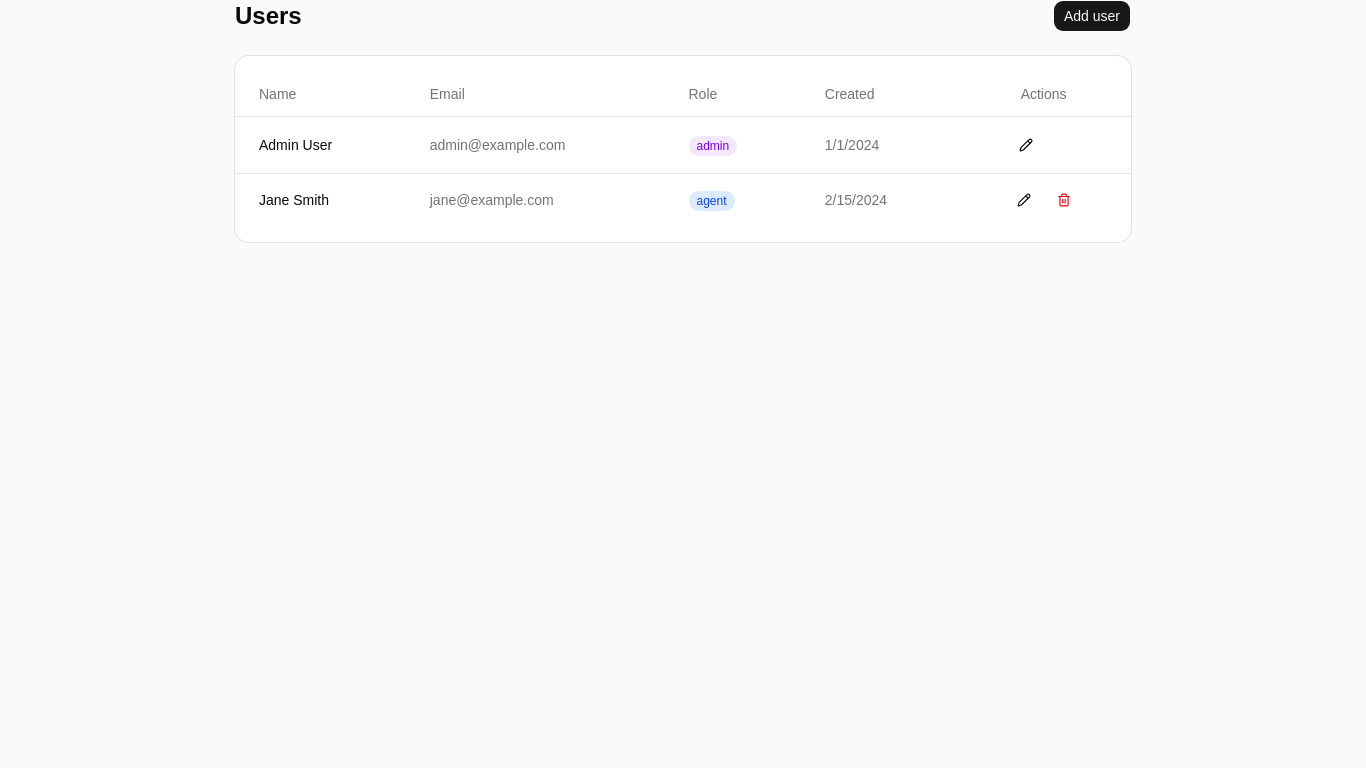
Test: Users page › Add user form › closes when the X button is clicked
Click the button "Add user" at (1092,16), box [1053, 0, 1131, 32]
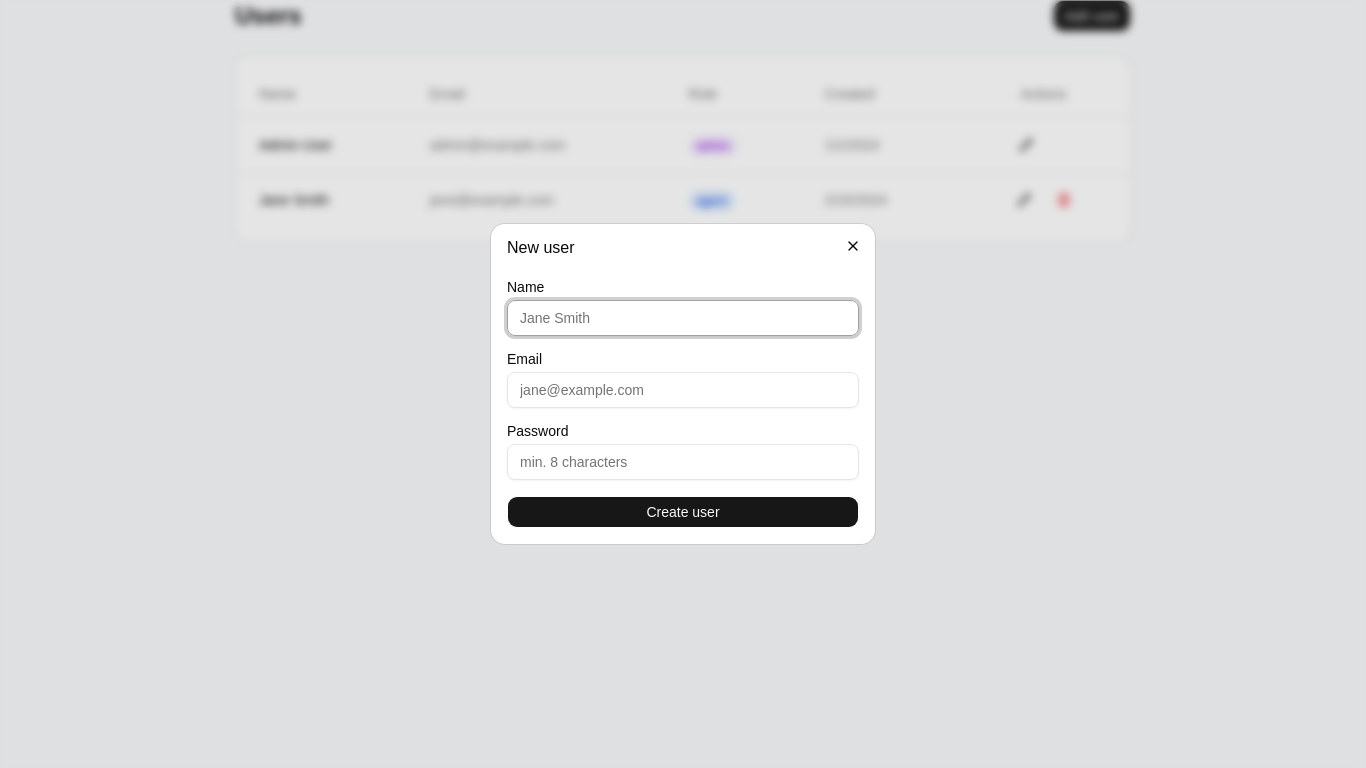
Click the button named "close" at (853,246), box [839, 232, 867, 260]
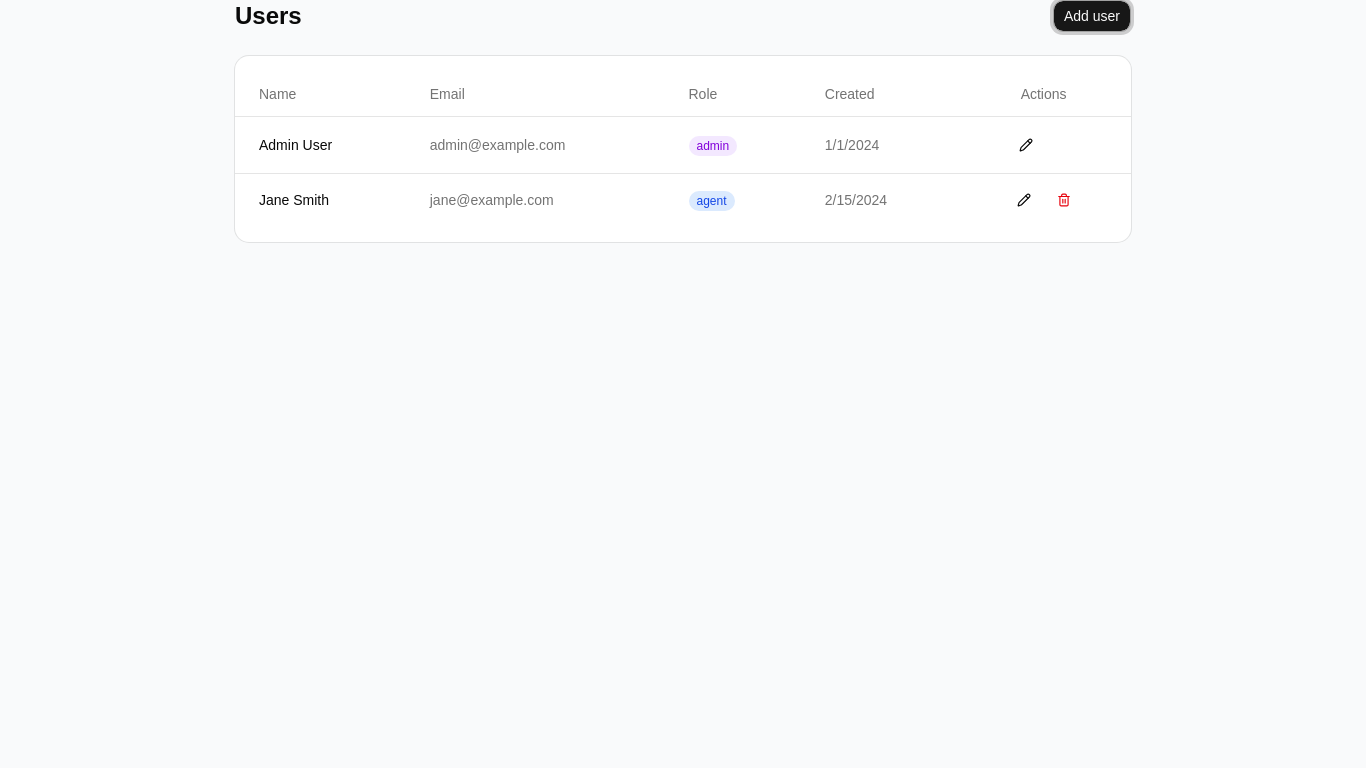
Check: the heading "New user" is gone
